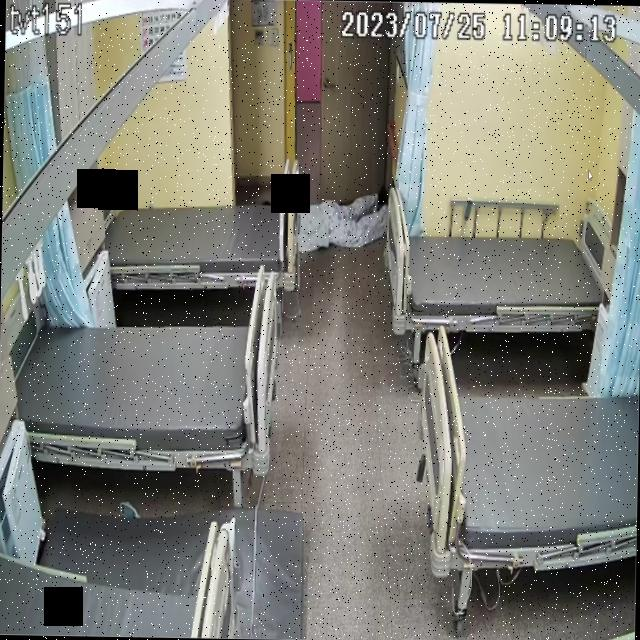bed: (416, 326, 640, 574), (11, 312, 278, 470), (382, 214, 618, 337), (106, 189, 296, 290)
fall: (297, 164, 383, 257)
patient: (298, 166, 384, 254)
